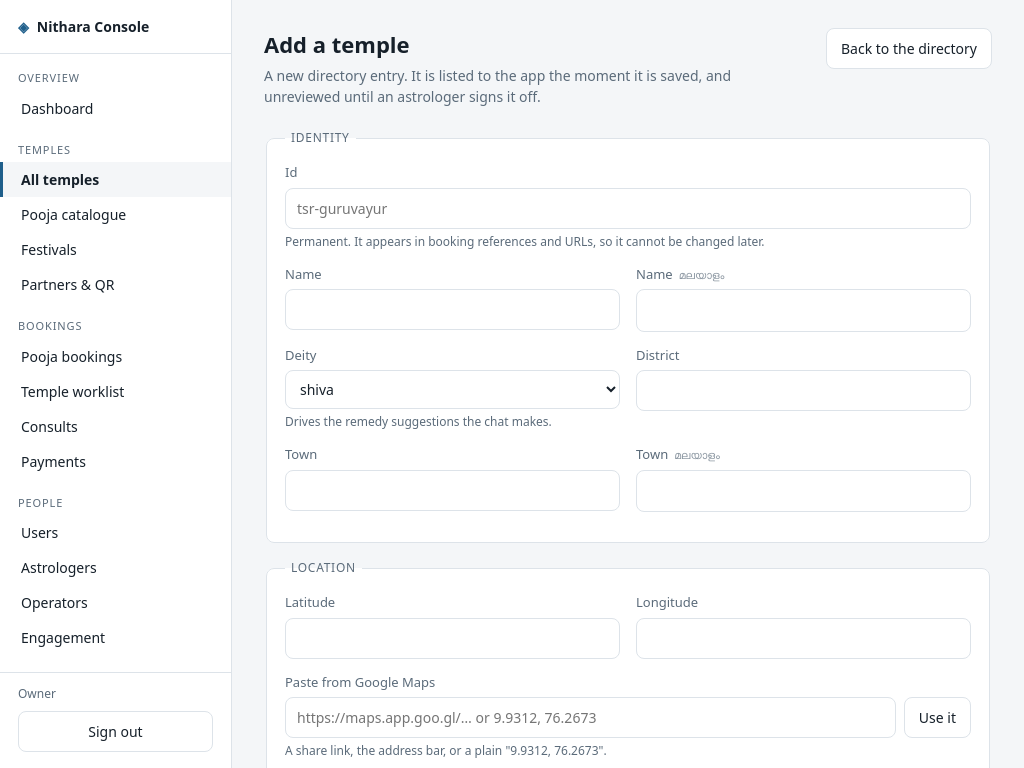
Scenario: the editor › does not shout at an untouched create form
Check: the heading "Add a temple" is shown, box left=264, top=29, right=410, bottom=59
…but says what is missing as soon as they start.
Step 1. Type "Not A Slug" into the field labelled "Id" → (628, 208), box left=285, top=188, right=971, bottom=228
(page scrolled)
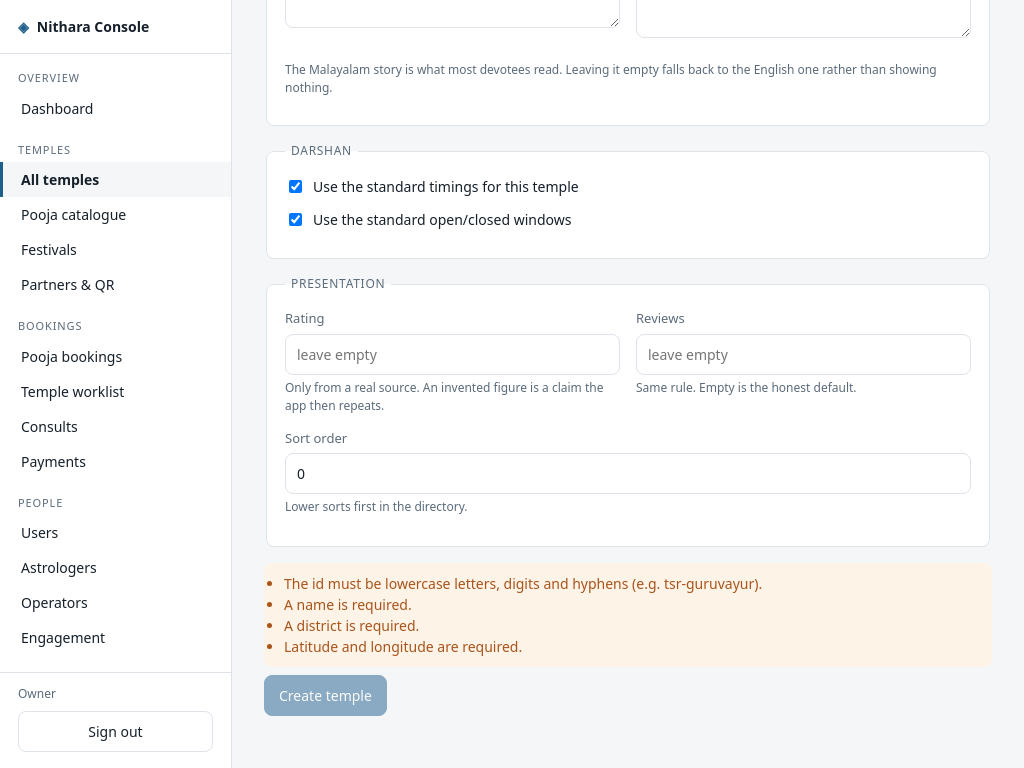
Check: the message shows "lowercase letters", box left=284, top=574, right=762, bottom=593
